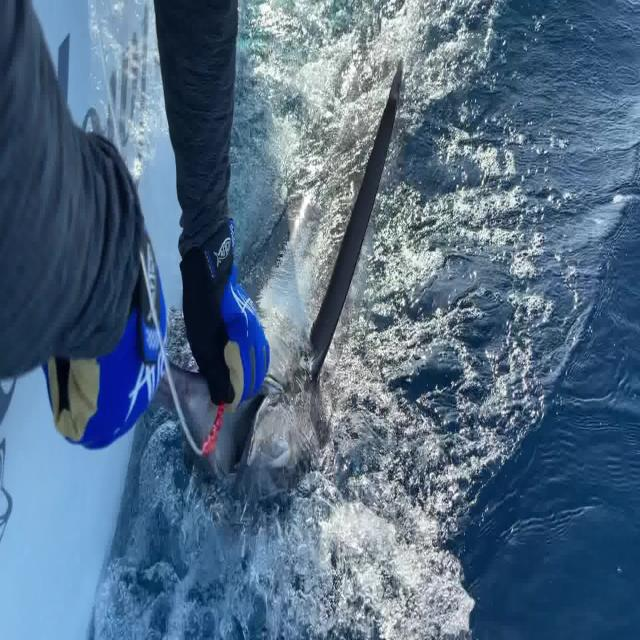Liberacion segura: (152, 55, 404, 512)
